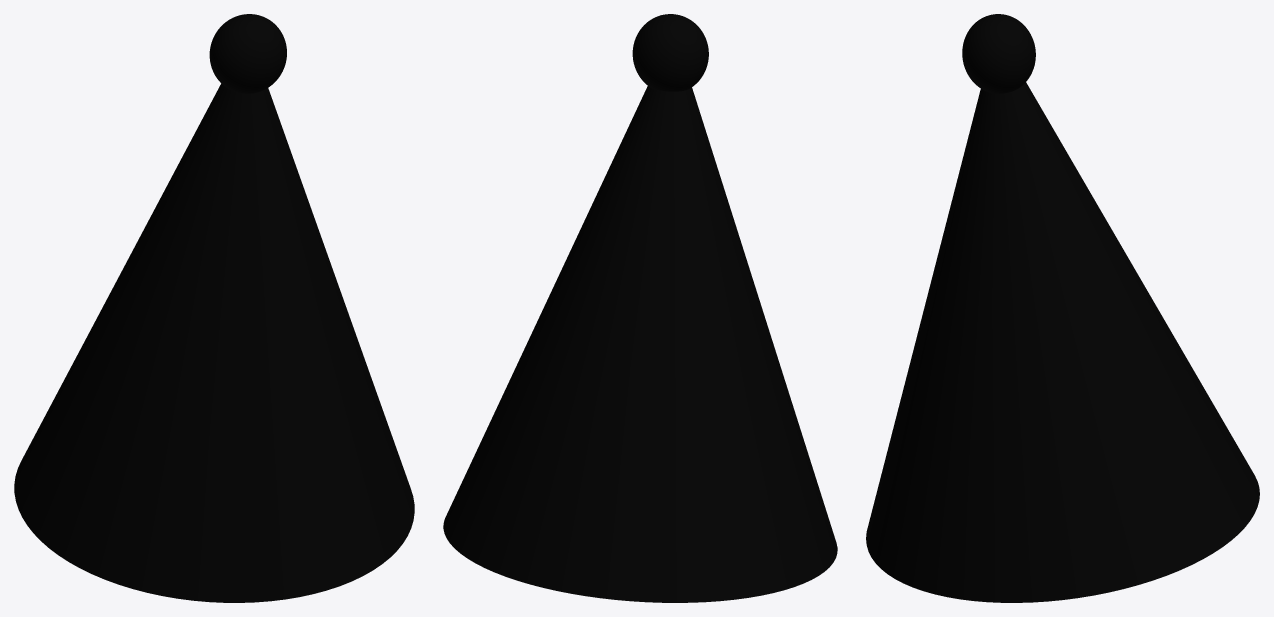
The model's file is 산타모자.glb.
3 renders of one model, left to right at view 1: azimuth 30°, elevation 25°; view 2: azimuth 150°, elevation 25°; view 3: azimuth 270°, elevation 25°, orthographic.
Visible parts, largest first — view 1: mesh_id27, mesh_id29; view 2: mesh_id27, mesh_id29; view 3: mesh_id27, mesh_id29.
Part boxes in pixels (x1=…): mesh_id27: x1=14, y1=83, x2=414, y2=602; mesh_id29: x1=209, y1=14, x2=286, y2=93; mesh_id27: x1=443, y1=86, x2=837, y2=602; mesh_id29: x1=632, y1=14, x2=708, y2=91; mesh_id27: x1=866, y1=82, x2=1259, y2=602; mesh_id29: x1=962, y1=14, x2=1035, y2=93.
Size of the model in its own units: 0.1056 by 0.1531 by 0.1048.
Materials: 2 (2 with a texture image).
